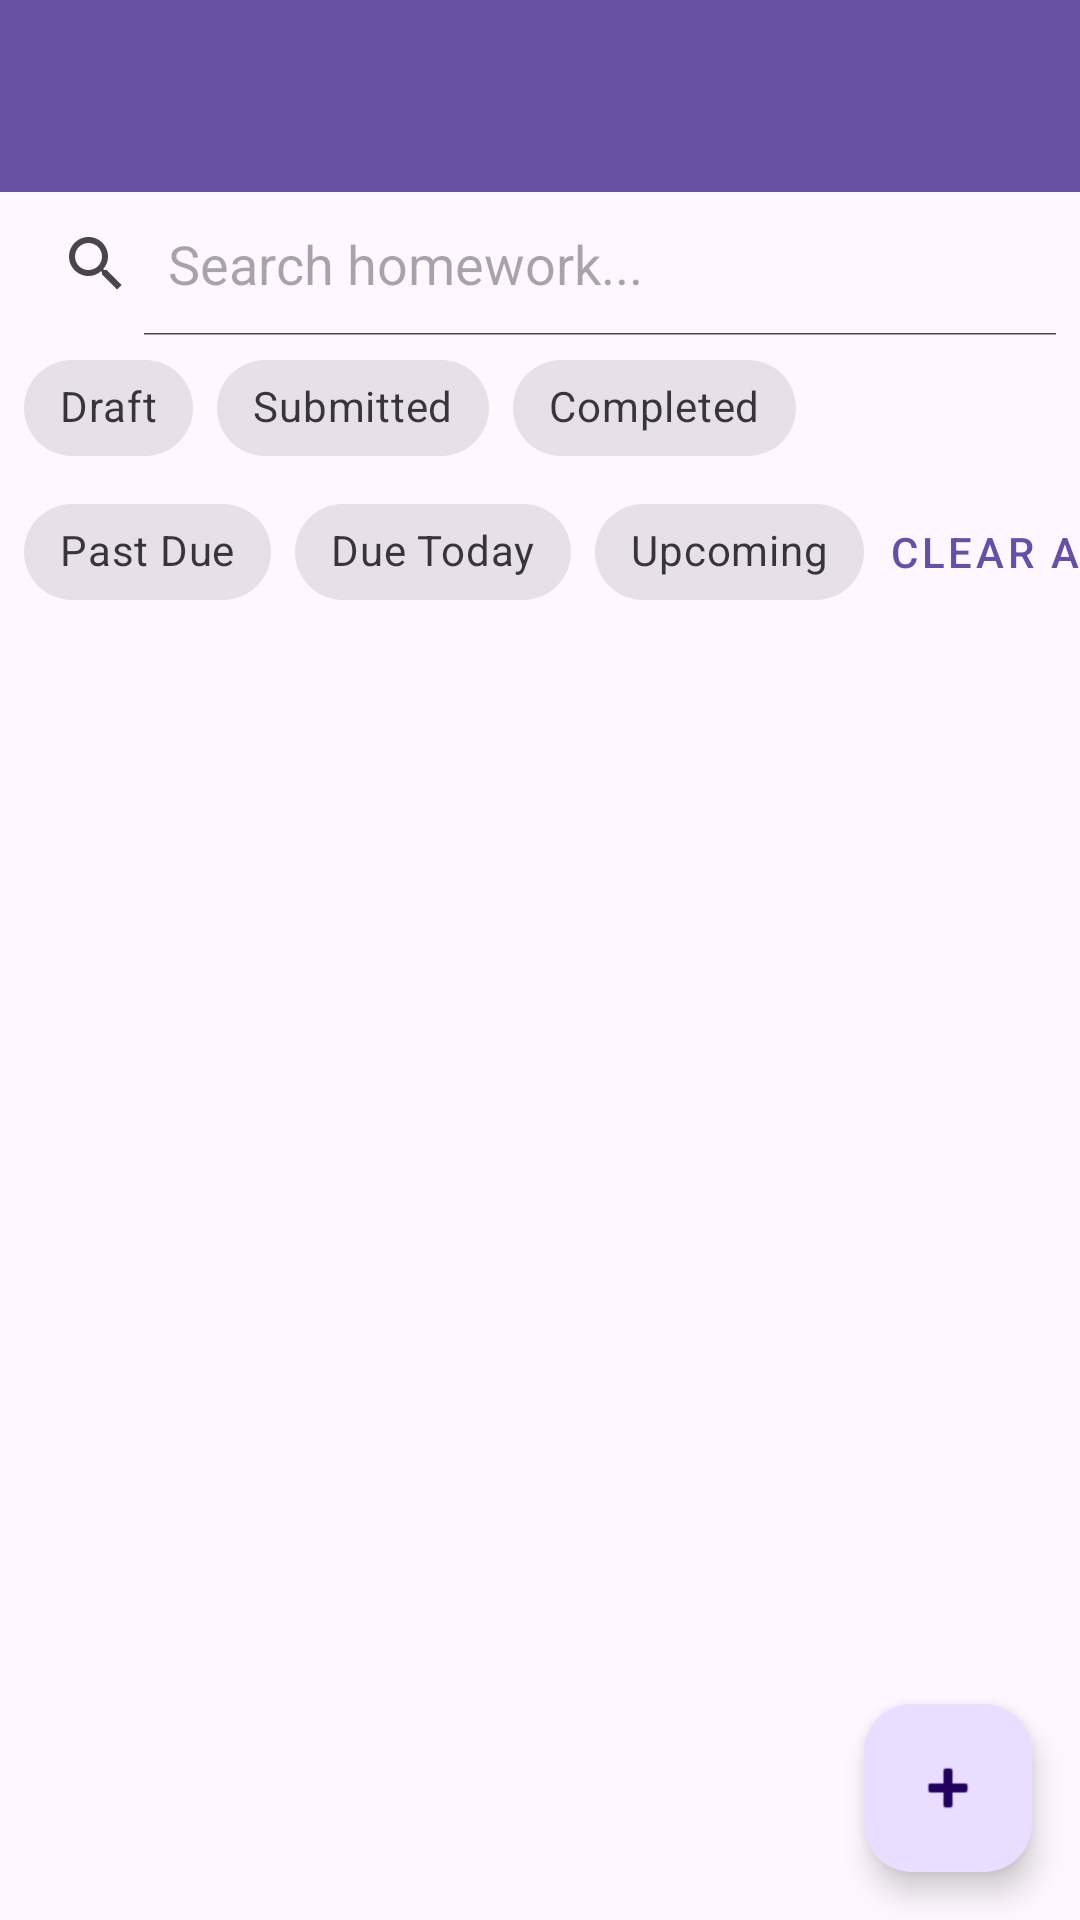

Point at icon controls on the screen. Image size 1080 x 1920, points as point (x, y).
Add new homework: point (948, 1788)
